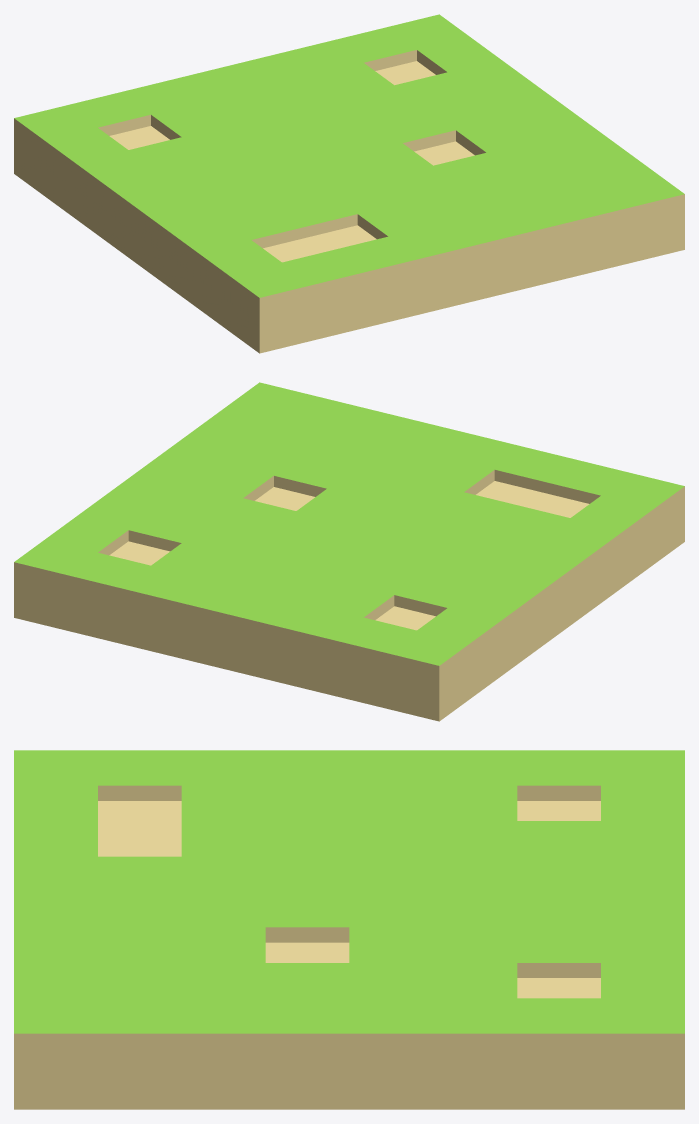
Rendered from Island.fbx.
3 views of the same model, one above another, from view 1: azimuth 30°, elevation 25°; view 2: azimuth 150°, elevation 25°; view 3: azimuth 270°, elevation 25° (orthographic). The views are drawn at different scales.
Visible parts, largest first — view 1: Cube; view 2: Cube; view 3: Cube.
Part boxes in pixels (x1=…): Cube: x1=14, y1=14, x2=684, y2=353; Cube: x1=14, y1=382, x2=684, y2=721; Cube: x1=14, y1=750, x2=684, y2=1109.
Bounding box in the file's own units: 100 × 12.5 × 100.
